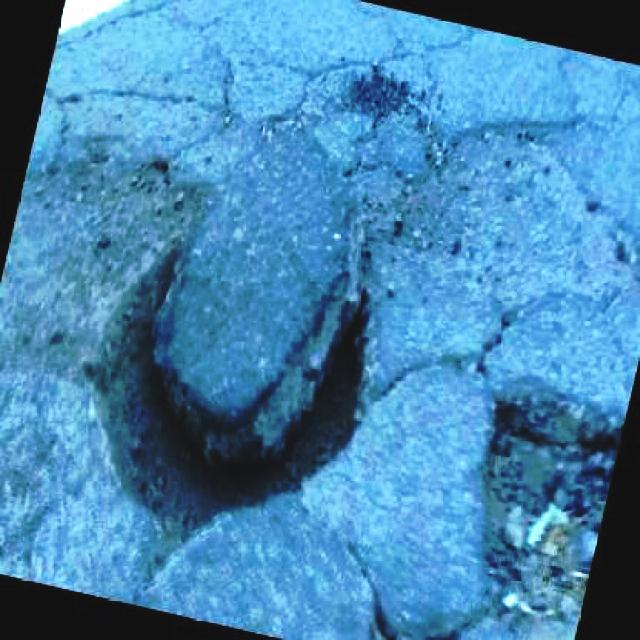pothole: (75, 236, 368, 542), (341, 118, 634, 322), (480, 368, 615, 634), (31, 130, 212, 308)
